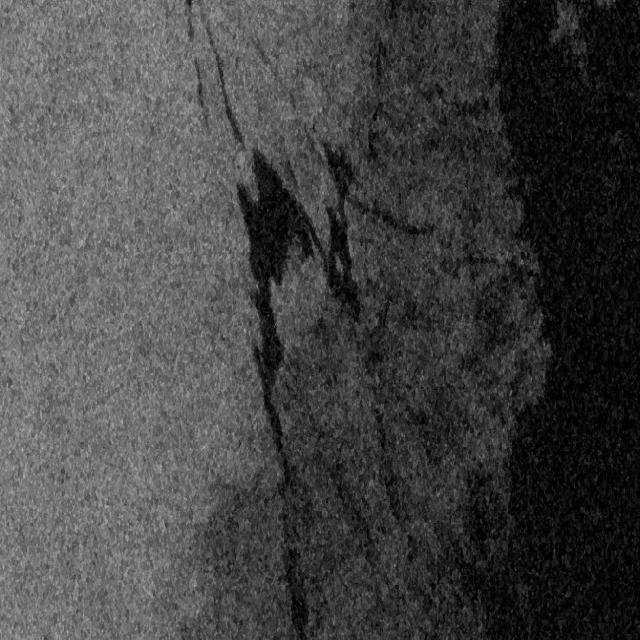look-alike: (498, 14, 636, 370), (483, 385, 640, 625), (228, 147, 318, 456)
